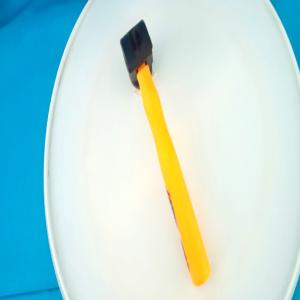martelo: (119, 18, 212, 287)
